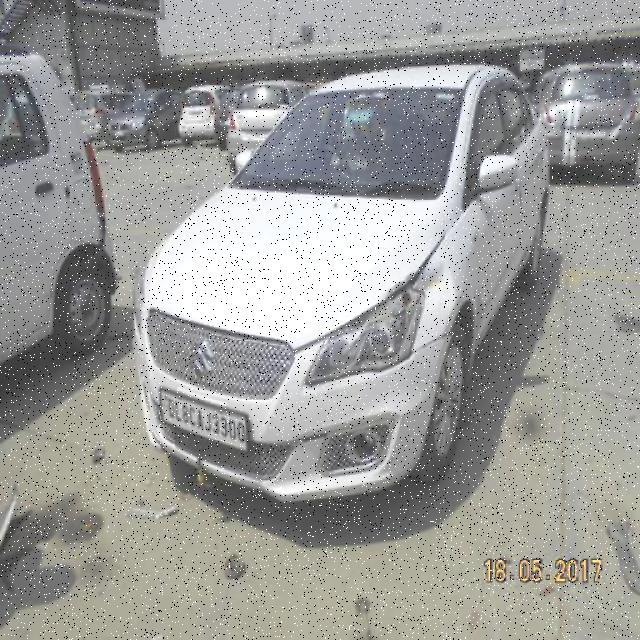car damage: (386, 235, 451, 311), (417, 259, 458, 316), (292, 428, 333, 450)
